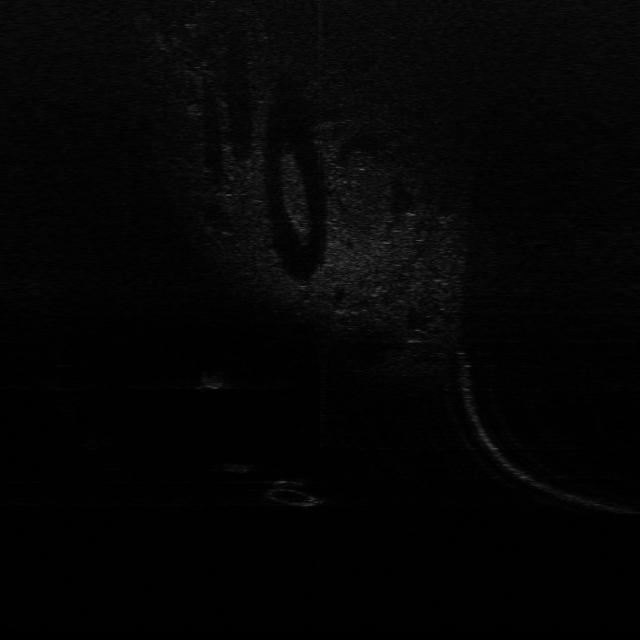cube: (218, 460, 256, 476)
square cage: (197, 368, 228, 392)
tyre: (264, 478, 328, 507)
